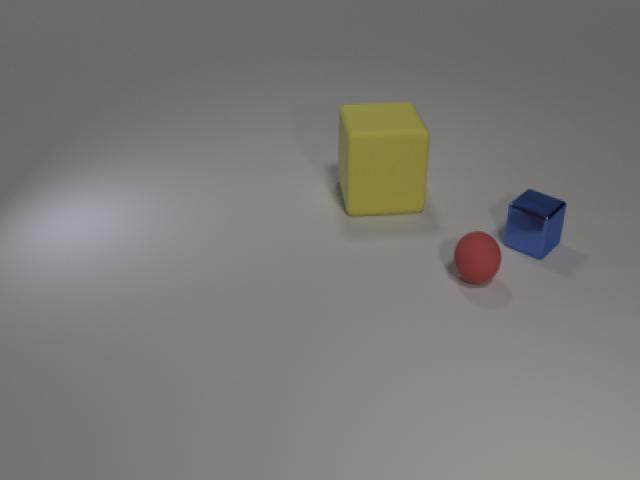round ball: (449, 227, 504, 289)
